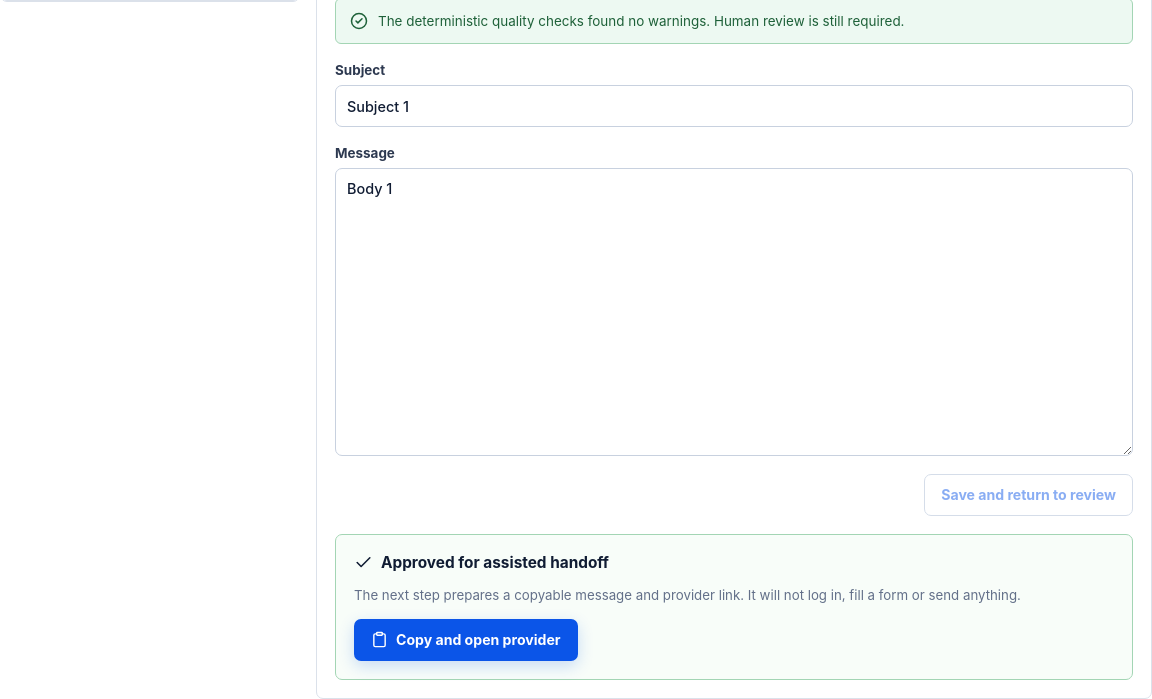
Test case: review workflow recovery › revalidates access before Copy message when a displayed handoff was revoked
(page scrolled)
Click the button "Copy and open provider" at (466, 640), box [354,619,578,661]
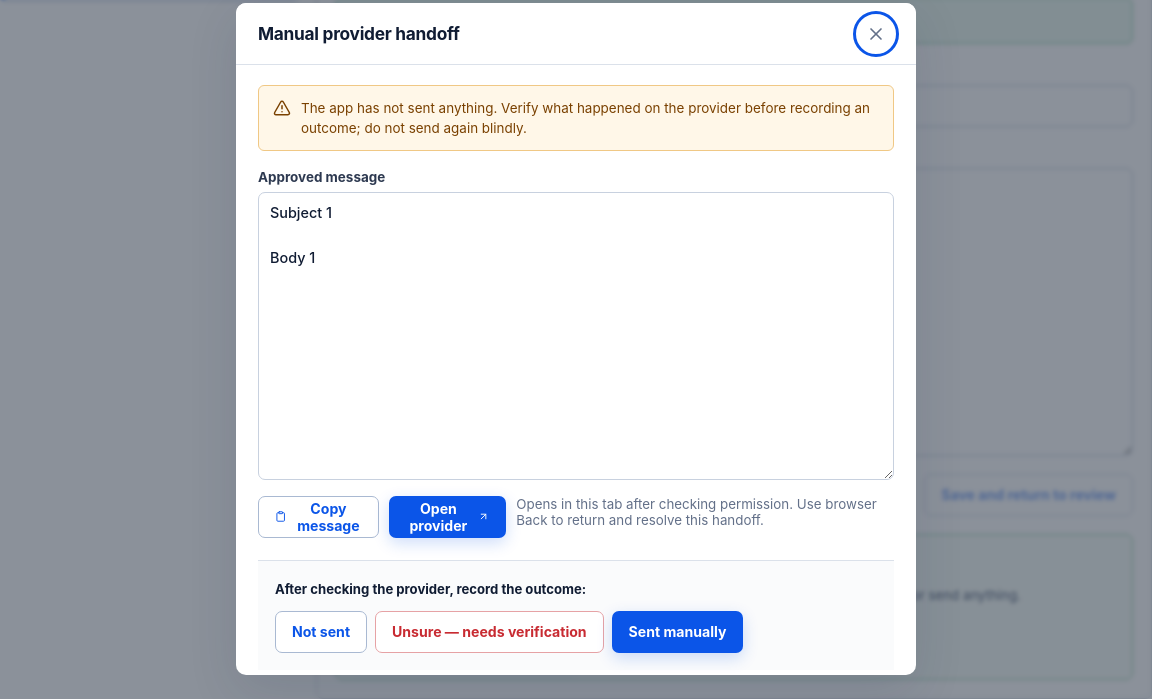
Click the button "Copy message" at (319, 517), box [258,496,380,538]
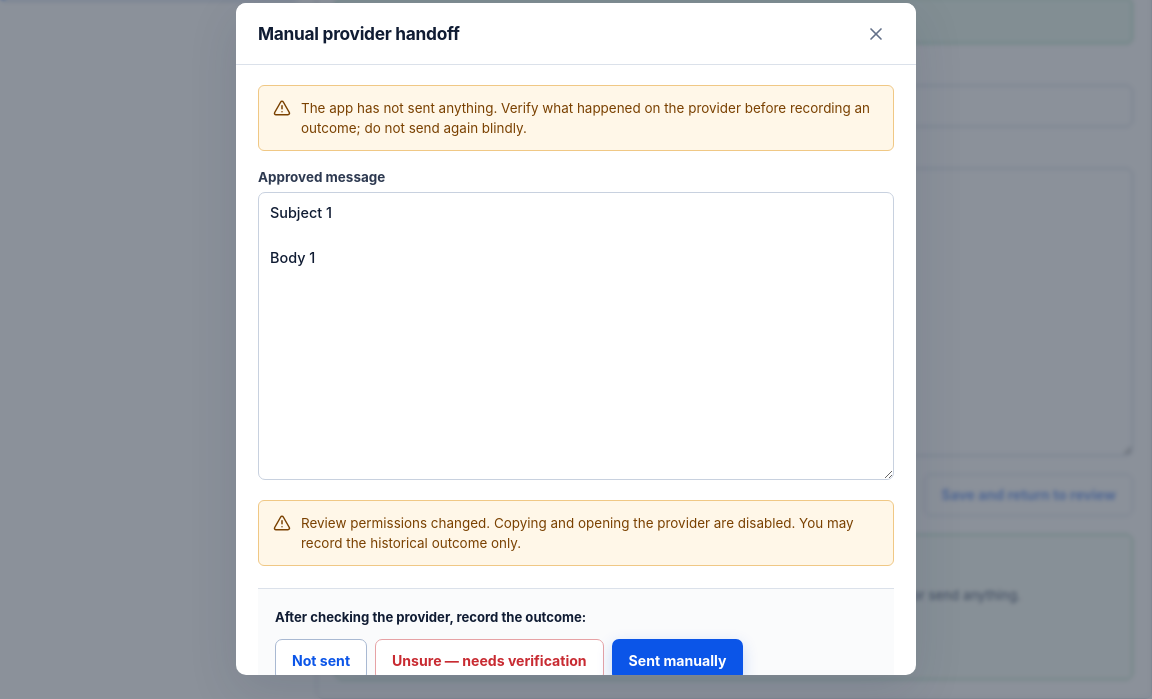
Expected: the text "permissions changed" is shown, [301,515,854,551]
